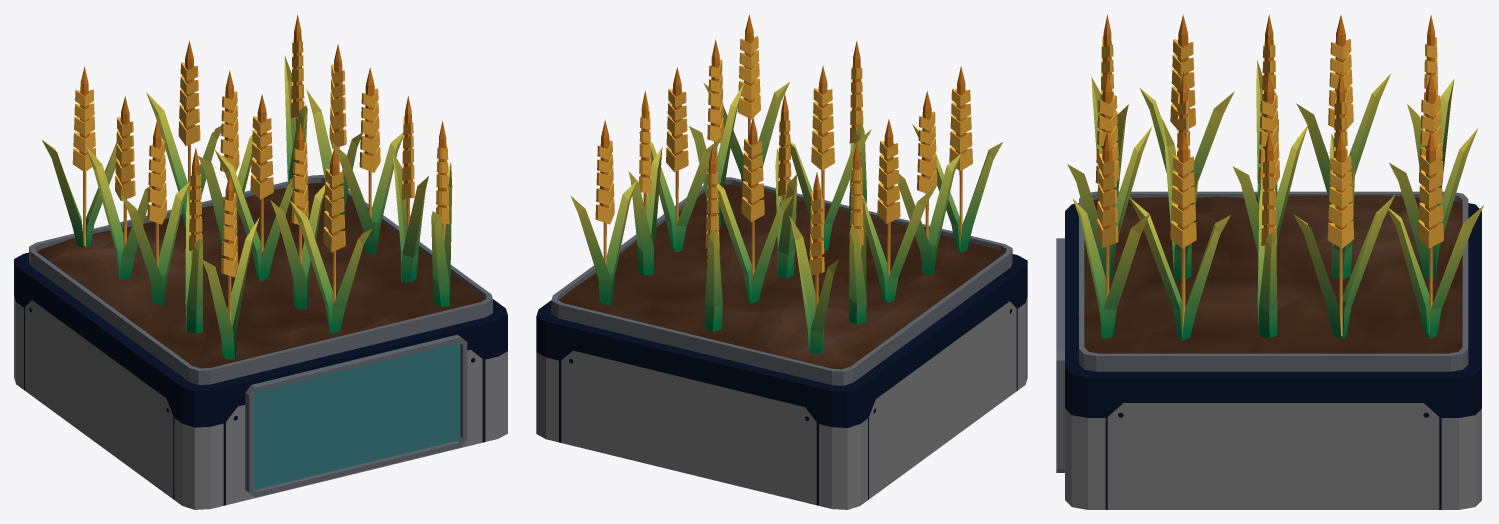
Rendered from SM_Props_Agro_05.fbx.
The picture shows the model from 3 angles, left to right: view 1: azimuth 30°, elevation 25°; view 2: azimuth 150°, elevation 25°; view 3: azimuth 270°, elevation 25°; orthographic projection. The views are drawn at different scales.
Visible parts, largest first — view 1: SM_Props_Agro_05_LOD0; view 2: SM_Props_Agro_05_LOD0; view 3: SM_Props_Agro_05_LOD0.
Boxes of the visible parts, left/top/right/bottom form: SM_Props_Agro_05_LOD0: left=14, top=14, right=507, bottom=509; SM_Props_Agro_05_LOD0: left=536, top=14, right=1027, bottom=509; SM_Props_Agro_05_LOD0: left=1056, top=14, right=1483, bottom=509.
Bounding box in the file's own units: 100 × 92.65 × 103.
